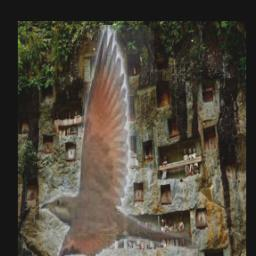Cuckoo: (39, 26, 198, 256)
